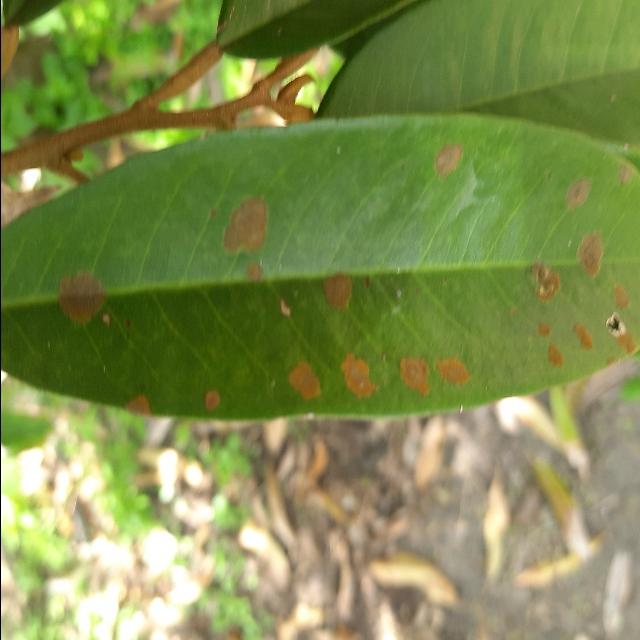Algal Leaf Spot: (0, 106, 640, 433)
